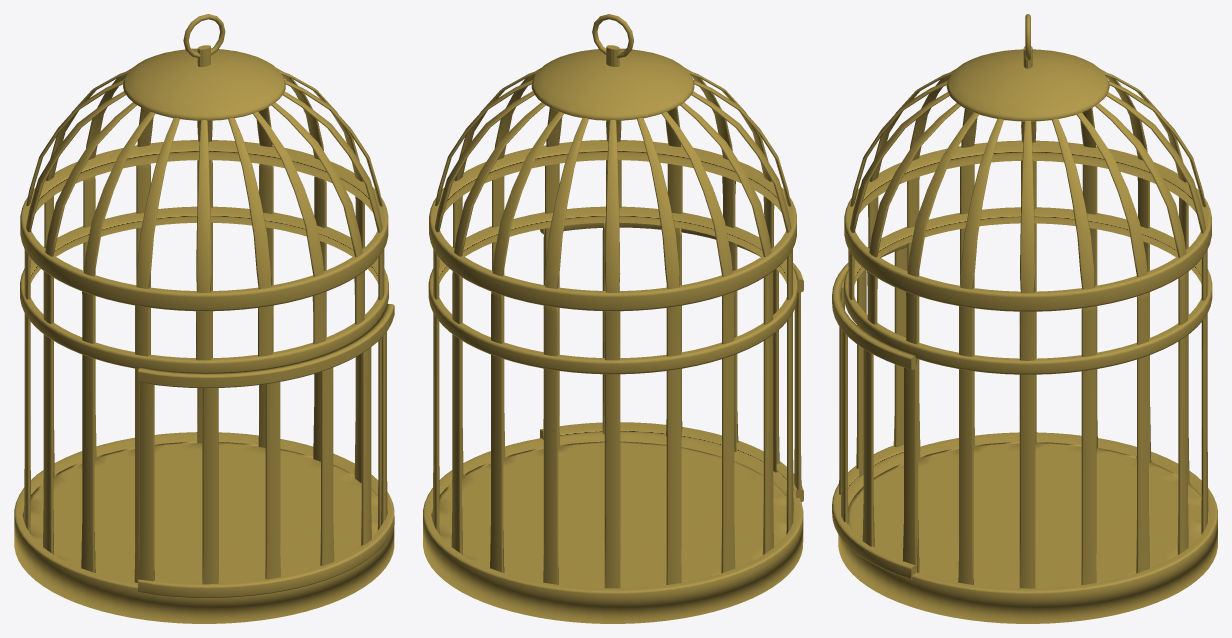
File: cage01.fbx
3 views of the same model, side by side, from view 1: azimuth 30°, elevation 25°; view 2: azimuth 150°, elevation 25°; view 3: azimuth 270°, elevation 25° (orthographic).
Visible parts, largest first — view 1: polySurface2, pSphere5, cage001:polySurface2, polySurface5, polySurface3, polySurface4, cage001:pSphere5, cage001:polySurface3, cage001:polySurface4, pTorus1; view 2: polySurface2, pSphere5, polySurface5, polySurface3, polySurface4, cage001:pSphere5, cage001:polySurface2, cage001:polySurface4, cage001:polySurface3, pTorus1; view 3: polySurface2, pSphere5, polySurface5, polySurface3, polySurface4, cage001:polySurface2, cage001:pSphere5, cage001:polySurface4, cage001:polySurface3.
Part boxes in pixels (x1,y1,x2,y2): polySurface2: [22, 160, 384, 582]; pSphere5: [26, 68, 382, 292]; cage001:polySurface2: [139, 332, 387, 584]; polySurface5: [14, 432, 394, 623]; polySurface3: [20, 140, 388, 311]; polySurface4: [20, 206, 388, 372]; cage001:pSphere5: [123, 48, 285, 120]; cage001:polySurface3: [138, 303, 394, 388]; cage001:polySurface4: [138, 513, 394, 598]; pTorus1: [183, 14, 225, 58]; polySurface2: [431, 160, 794, 588]; pSphere5: [434, 68, 791, 292]; polySurface5: [423, 433, 803, 623]; polySurface3: [429, 140, 796, 311]; polySurface4: [428, 206, 797, 374]; cage001:pSphere5: [531, 48, 694, 120]; cage001:polySurface2: [543, 223, 801, 489]; cage001:polySurface4: [540, 422, 803, 502]; cage001:polySurface3: [540, 222, 803, 292]; pTorus1: [592, 14, 633, 58]; polySurface2: [848, 160, 1209, 588]; pSphere5: [850, 69, 1206, 293]; polySurface5: [838, 432, 1217, 623]; polySurface3: [844, 140, 1211, 311]; polySurface4: [844, 207, 1212, 374]; cage001:polySurface2: [839, 247, 917, 572]; cage001:pSphere5: [946, 49, 1109, 121]; cage001:polySurface4: [832, 445, 915, 579]; cage001:polySurface3: [832, 244, 915, 369].
Size of the model in its own units: 99.12 by 152 by 101.
